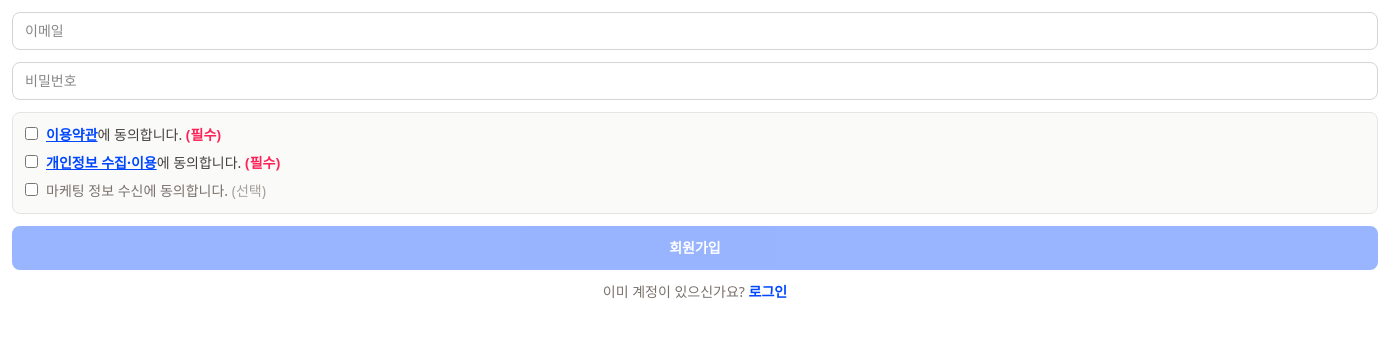
Test case: AuthForm — SIGNUP mode › 이메일 확인 필요(세션 없음) 시 안내 메시지를 표시하고 리다이렉트하지 않는다
Type "user@example.com" into the field with placeholder "이메일" at point(695, 31), box [12,12,1378,50]
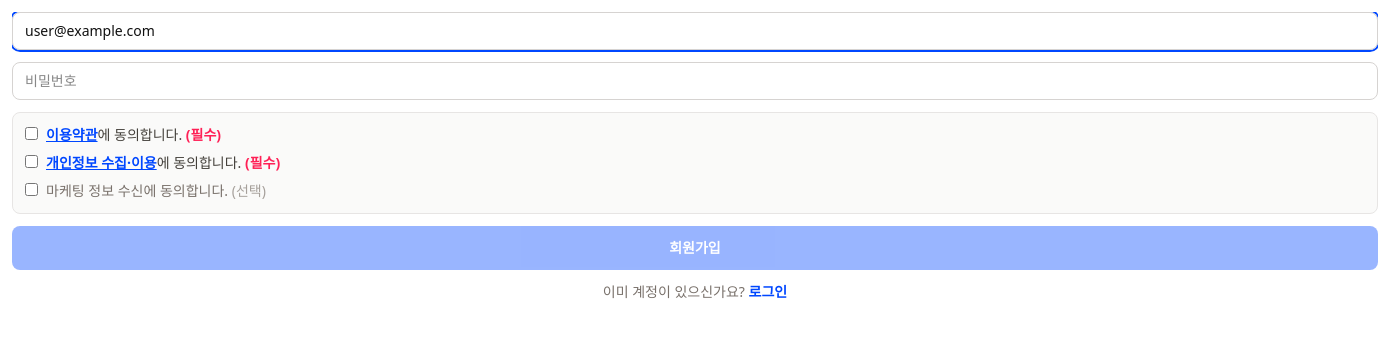
Type "password123" into the password field with placeholder "비밀번호" at point(695, 81), box [12,62,1378,100]
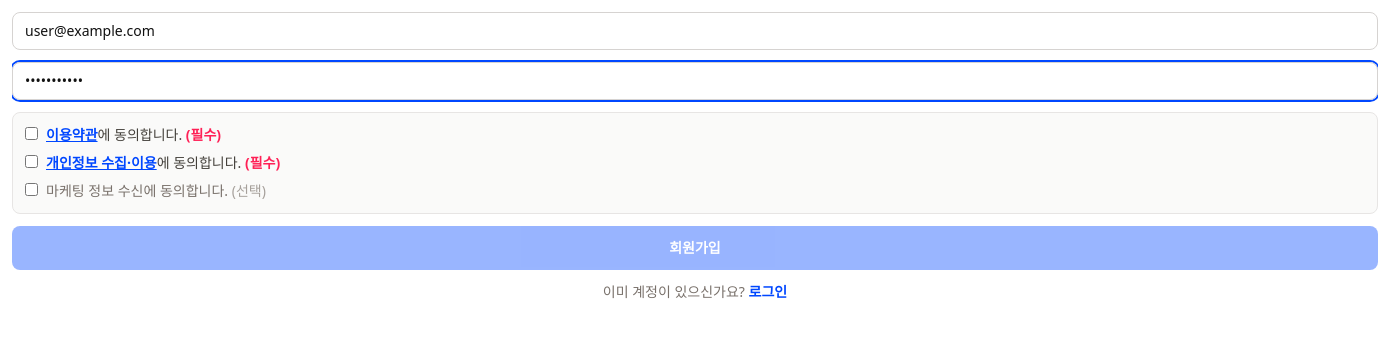
Click the checkbox named "이용약관 동의" at point(32, 134), box [25,127,38,140]
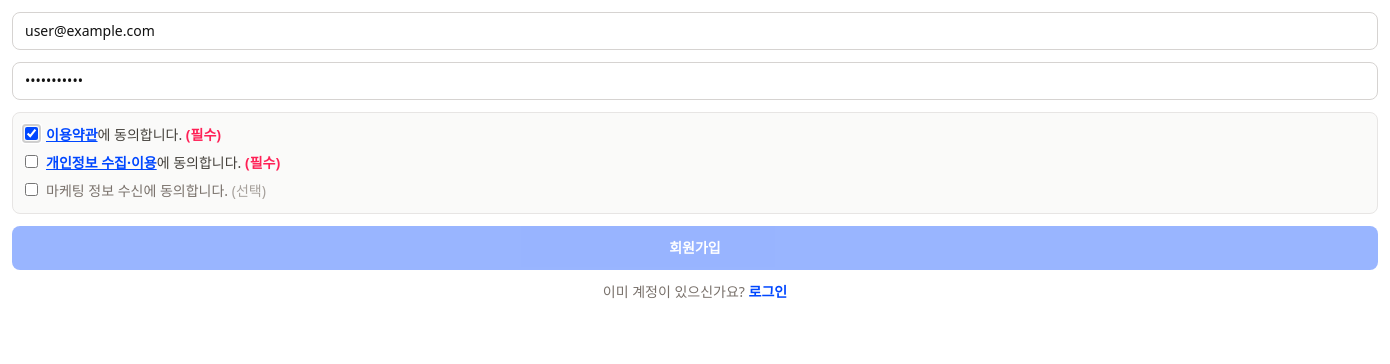
Click the checkbox named "개인정보 수집·이용 동의" at point(32, 162), box [25,155,38,168]
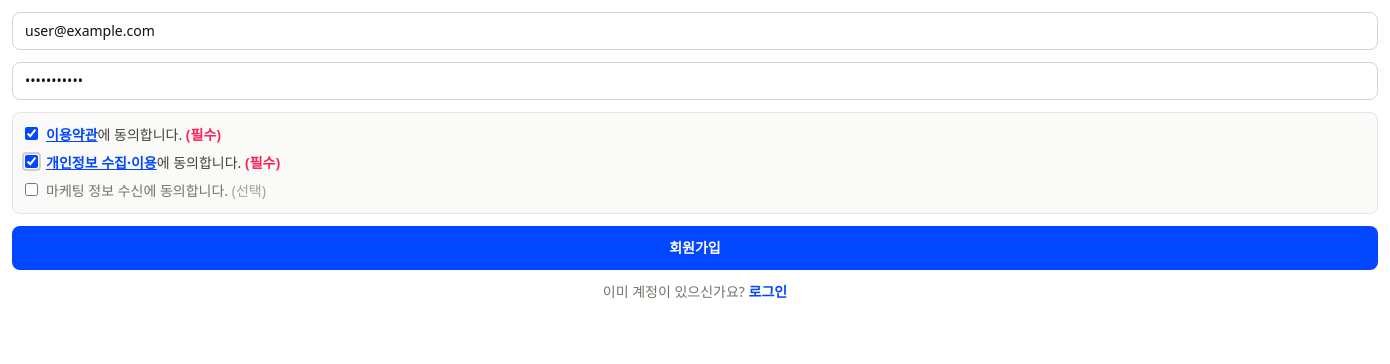
Click the button "회원가입" at point(695, 248), box [12,226,1378,270]
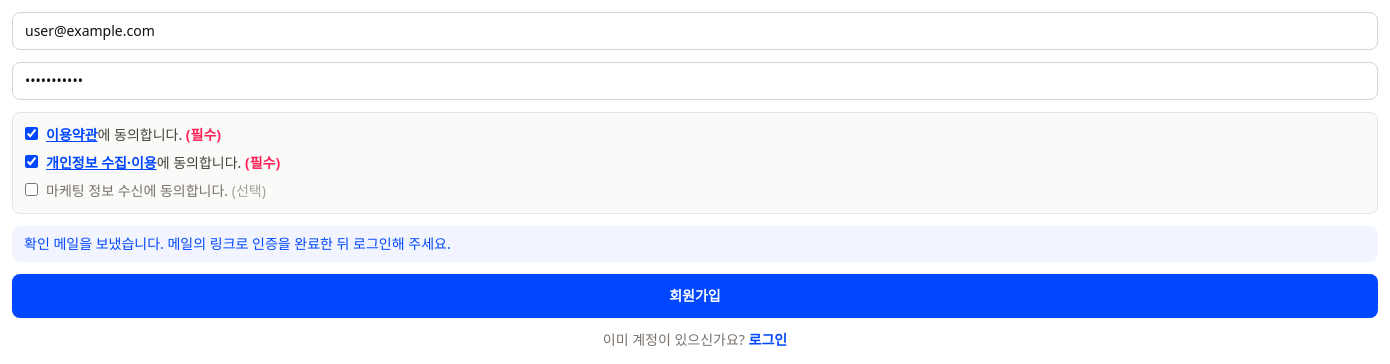
Result: the text "확인 메일을 보냈습니다. 메일의 링크로 인증을 완료한 뒤 로그인해 주세요." is shown at [12,226,1378,262]
